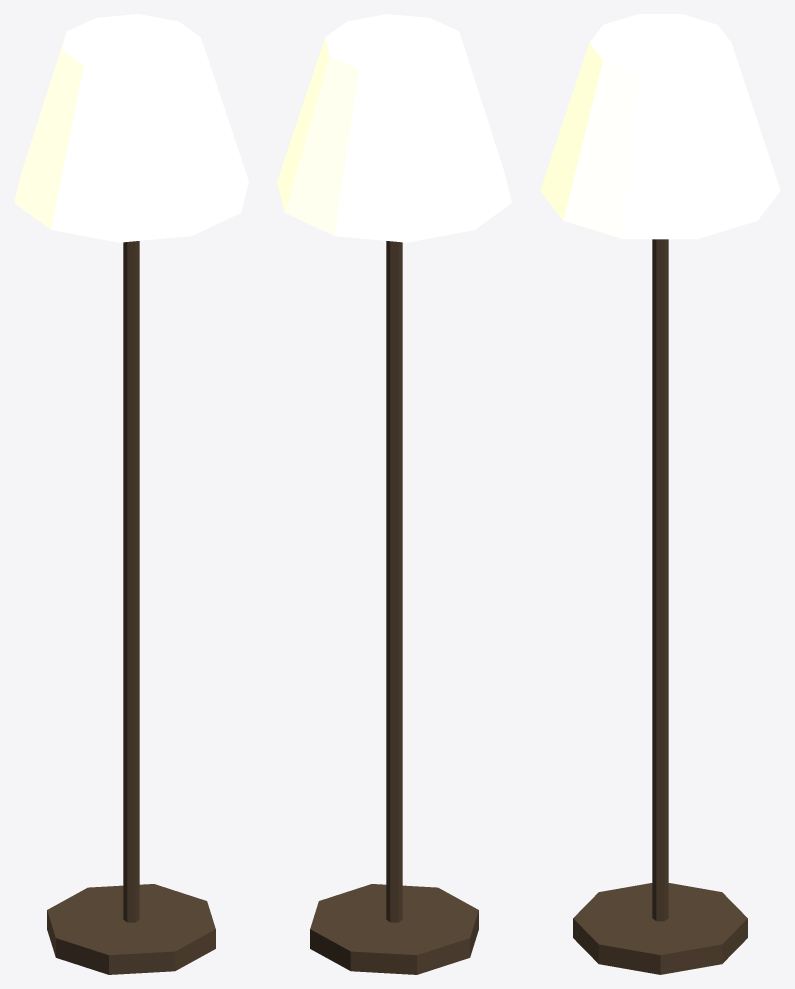
File: lwf_stage_set_folk_v1.glb
The picture shows the model from 3 angles, left to right: view 1: azimuth 30°, elevation 25°; view 2: azimuth 150°, elevation 25°; view 3: azimuth 270°, elevation 25°; orthographic projection.
Parts seen in each view (by area): view 1: LampShade, Props; view 2: LampShade, Props; view 3: LampShade, Props.
Part boxes in pixels (x1,y1,x2,y2): LampShade: (14, 14, 248, 242); Props: (47, 241, 215, 974); LampShade: (277, 14, 511, 242); Props: (310, 241, 478, 974); LampShade: (540, 14, 780, 239); Props: (573, 239, 747, 974).
Size of what is drawn, in the model's own units: 0.4185 by 1.81 by 0.44.
Materials: 2 (1 with a texture image).
